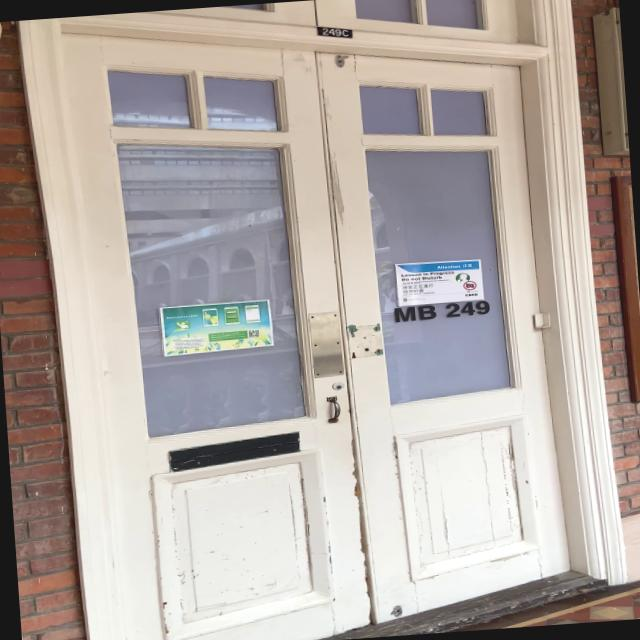room249c: (308, 20, 357, 44)
room249cWindow: (387, 297, 495, 327)
